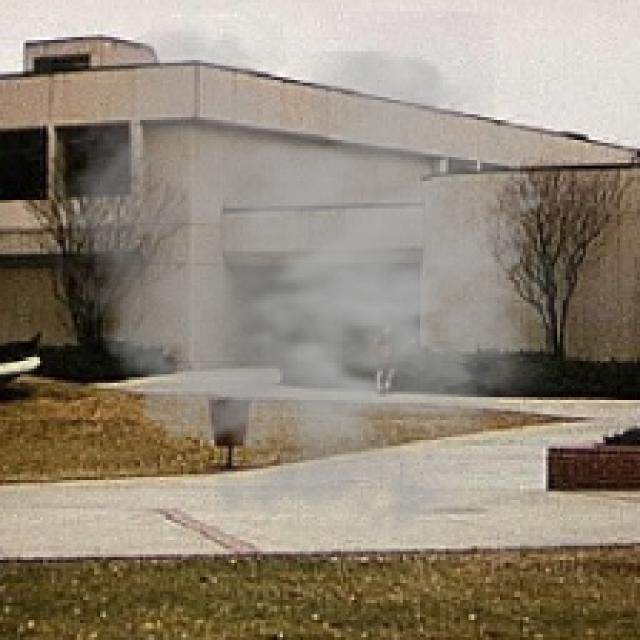Smoke: (39, 11, 592, 552)
